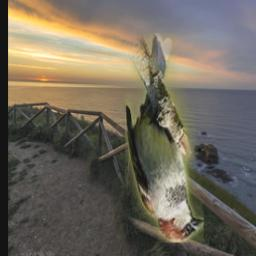Sparrow: (125, 33, 204, 243)
